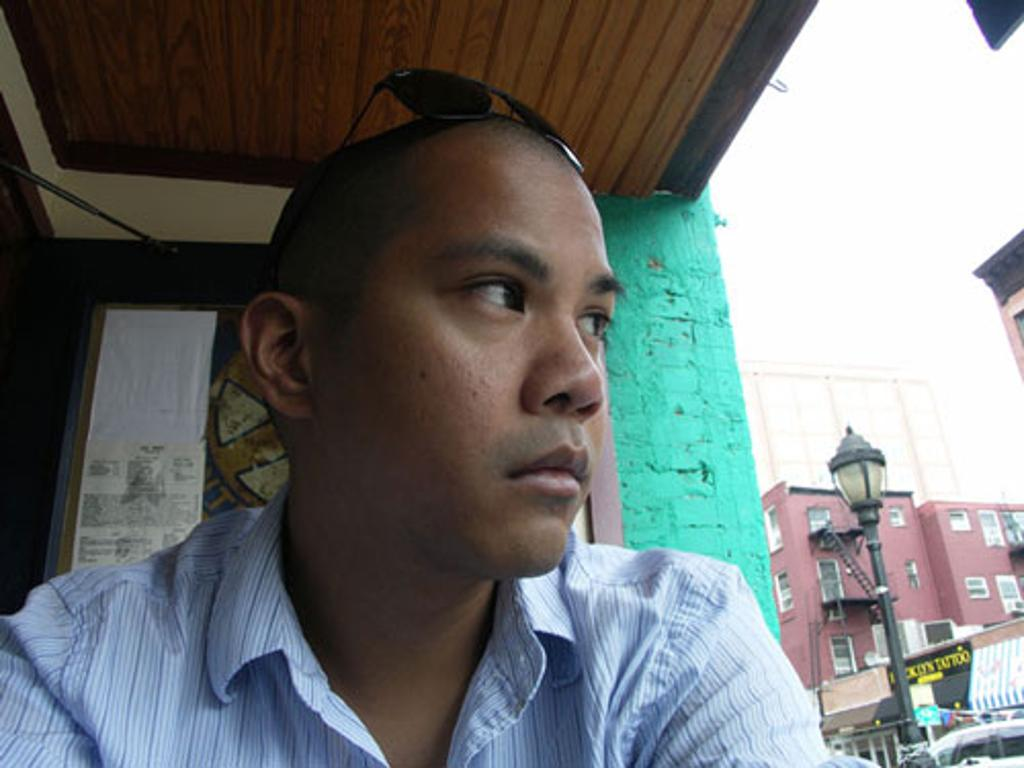face: (320, 132, 612, 564)
